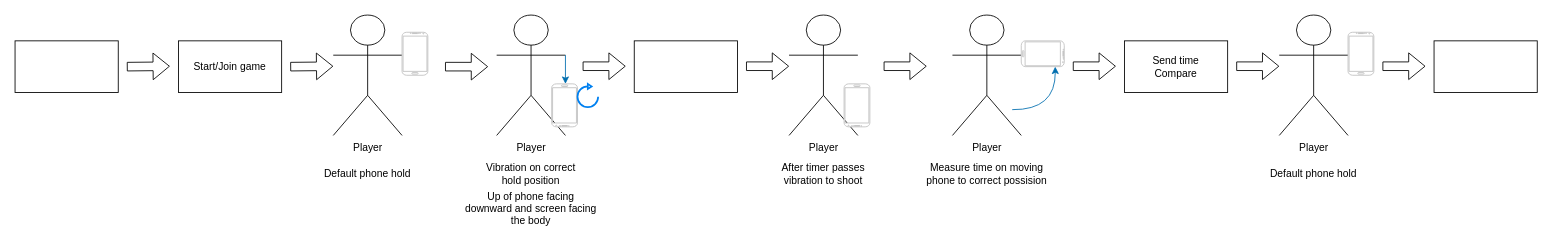
Some shapes in this 1552 by 242 pixel diagram are drawn without their labels. The shapes that lost their labels are listed below. From the top down, each one's centre as x and y in pixels, then its label:
At pixel 66 66: "Lunch app".
At pixel 685 66: "Synchronized timer".
At pixel 1485 66: "End duel".
